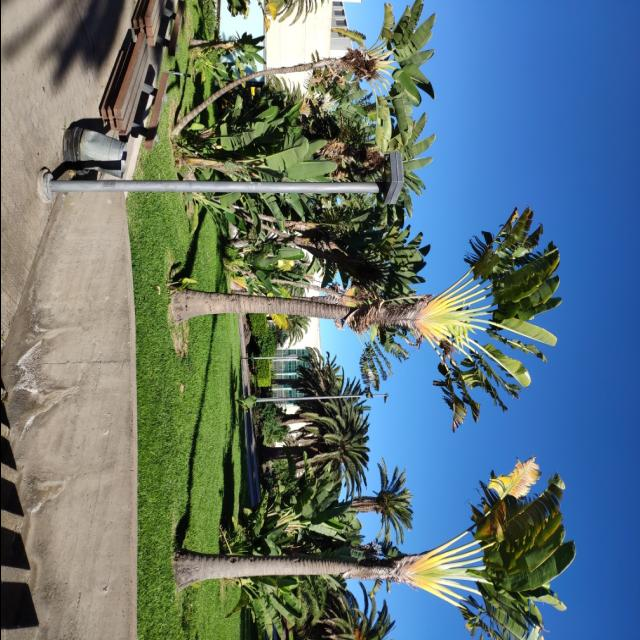Palm-Trees: (260, 410, 366, 492), (344, 458, 412, 550)
